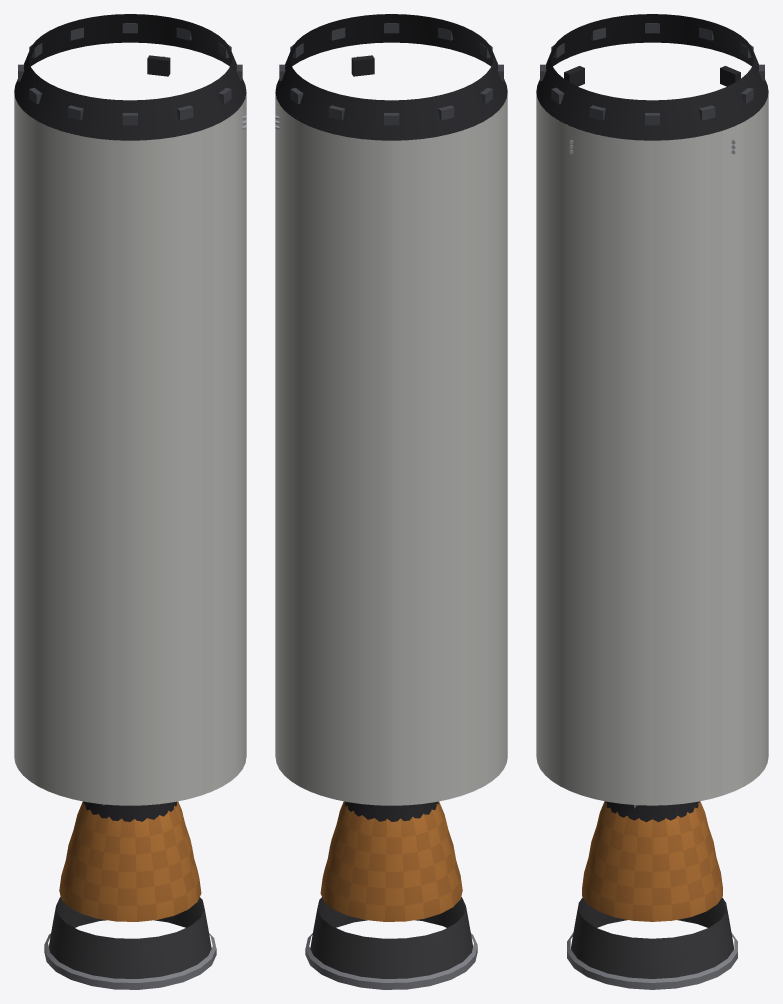
File: upper.hi.glb
3 views of the same model, side by side, from view 1: azimuth 30°, elevation 25°; view 2: azimuth 150°, elevation 25°; view 3: azimuth 270°, elevation 25° (orthographic).
Parts seen in each view (by area): view 1: upper.hull, upper.bell, upper.dark, upper.metal; view 2: upper.hull, upper.bell, upper.dark, upper.metal; view 3: upper.hull, upper.bell, upper.dark, upper.metal.
Boxes of the visible parts, x1,y1,x2,y2 form: upper.hull: (14,92,246,805); upper.bell: (49,801,211,978); upper.dark: (14,14,246,821); upper.metal: (44,56,246,989); upper.hull: (275,92,507,805); upper.bell: (310,801,472,978); upper.dark: (275,14,507,821); upper.metal: (275,56,477,989); upper.hull: (536,93,768,805); upper.bell: (571,801,733,978); upper.dark: (536,14,768,822); upper.metal: (567,139,737,989).
Size of the model in its own units: 3.66 by 15.61 by 3.66.
